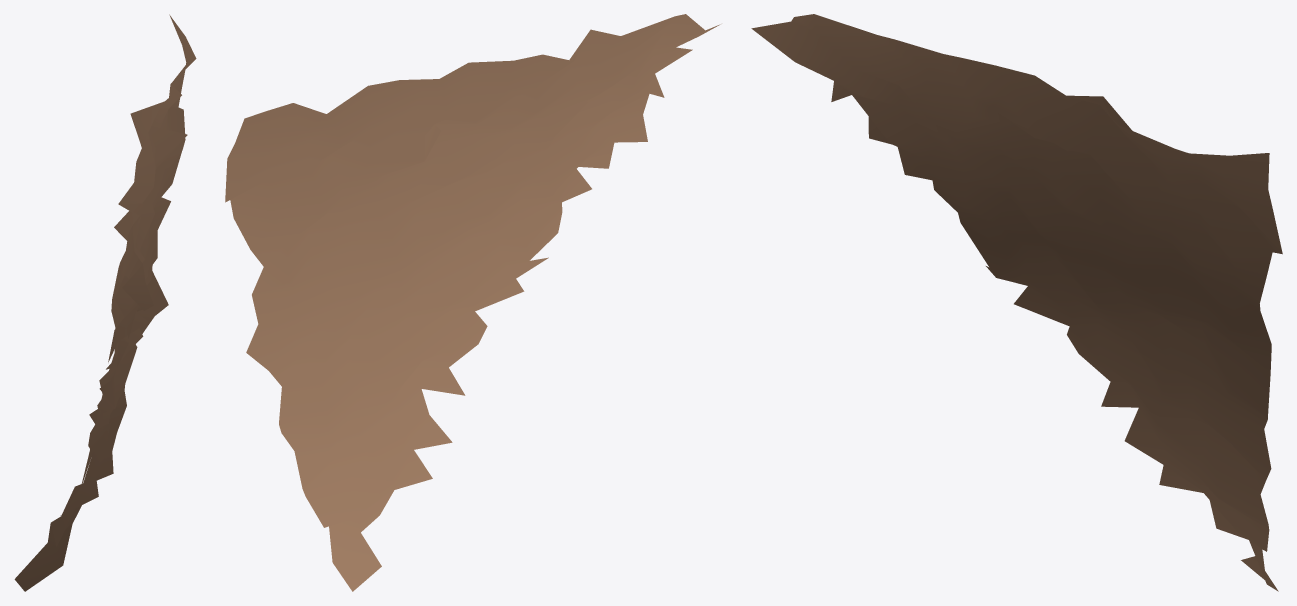
The model's file is pottery_fragment_060.obj.
The picture shows the model from 3 angles, left to right: view 1: azimuth 30°, elevation 25°; view 2: azimuth 150°, elevation 25°; view 3: azimuth 270°, elevation 25°; orthographic projection. The views are drawn at different scales.
Size of the model in its own units: 12.62 by 20.69 by 19.37.
